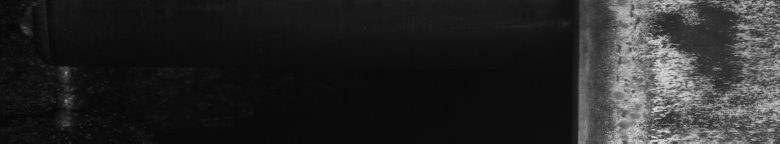kb: (606, 4, 776, 136)
